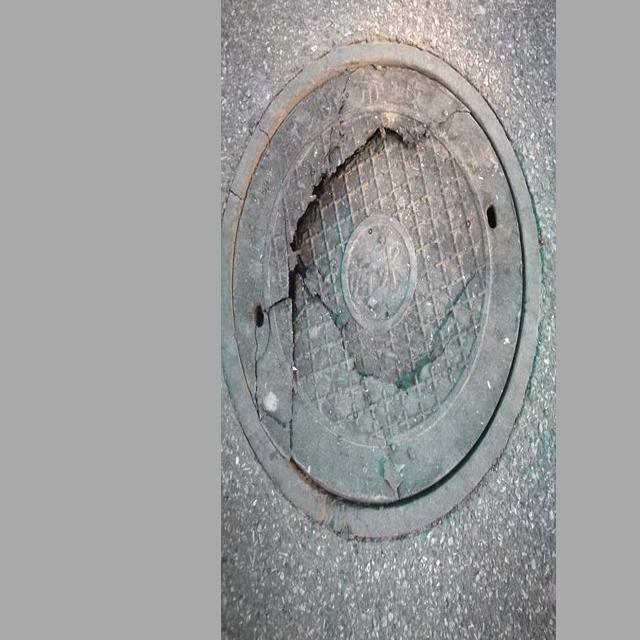broke: (229, 31, 539, 539)
